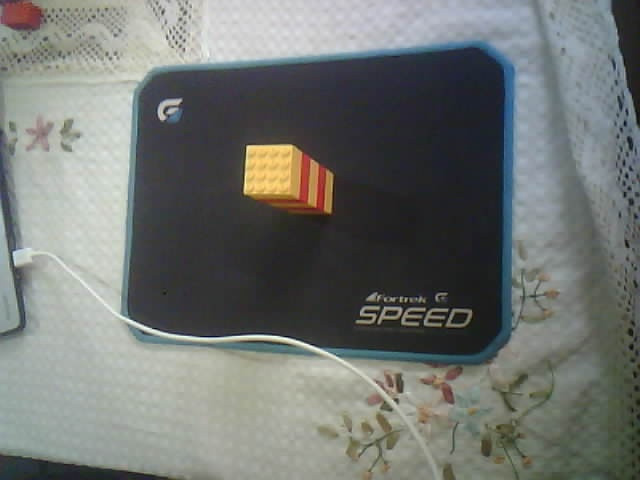lego: (241, 143, 334, 218), (1, 1, 42, 31)
